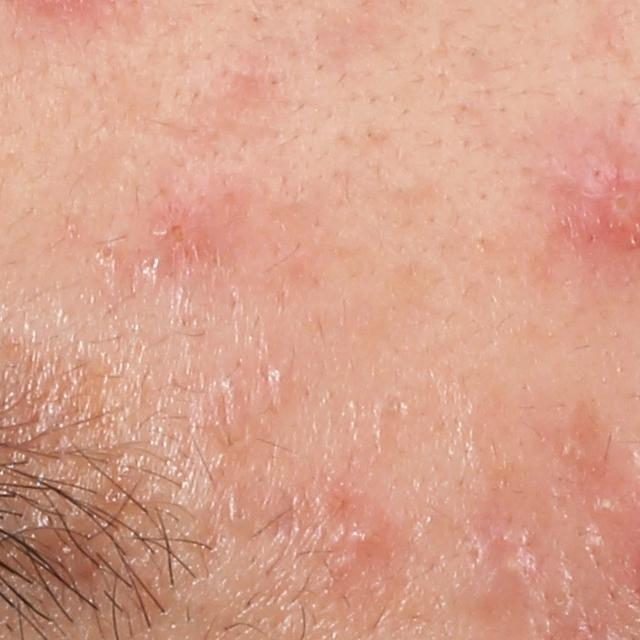papule: (155, 209, 202, 260), (341, 517, 376, 559)
